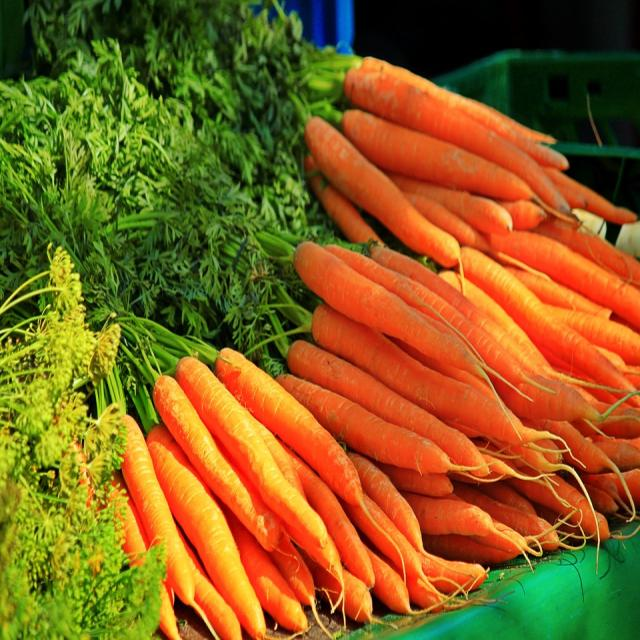Fresh_Carrot: (178, 362, 322, 567), (288, 222, 462, 353), (339, 97, 532, 193)
